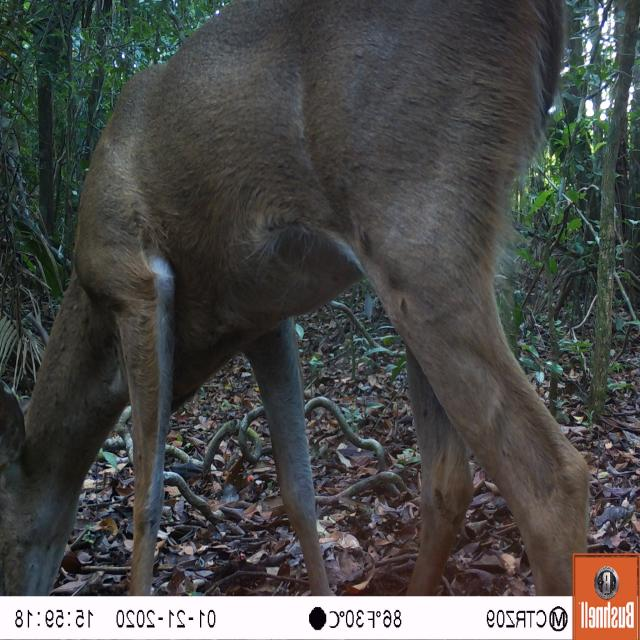White-tailed Deer: (0, 2, 619, 594)
